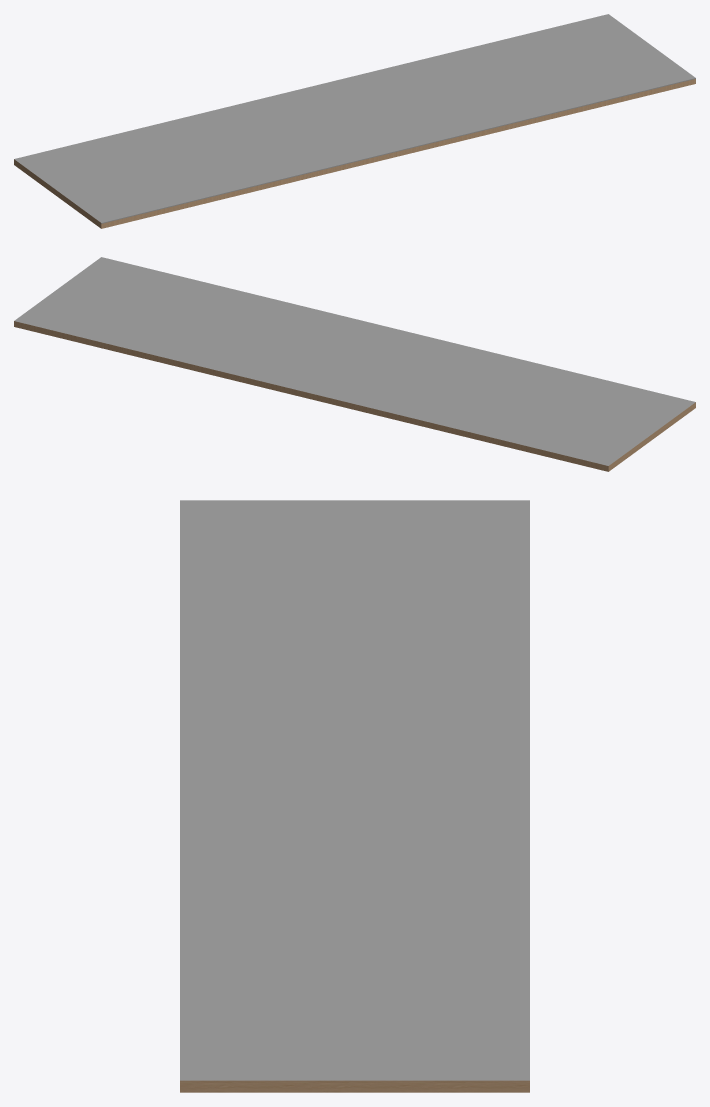
The model's file is CounterTopSteel.glb.
The picture shows the model from 3 angles, top to bottom: view 1: azimuth 30°, elevation 25°; view 2: azimuth 150°, elevation 25°; view 3: azimuth 270°, elevation 25°; orthographic projection. The views are drawn at different scales.
Parts seen in each view (by area): view 1: Counter Top Steel; view 2: Counter Top Steel; view 3: Counter Top Steel.
Boxes of the visible parts, x1,y1,x2,y2 form: Counter Top Steel: (14,14,695,228); Counter Top Steel: (14,257,695,471); Counter Top Steel: (180,500,529,1092).
Bounding box in the file's own units: 1.06 × 0.01 × 0.27.
Materials: 2 (1 with a texture image).
